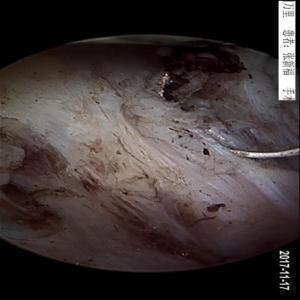film: (50, 74, 297, 249)
